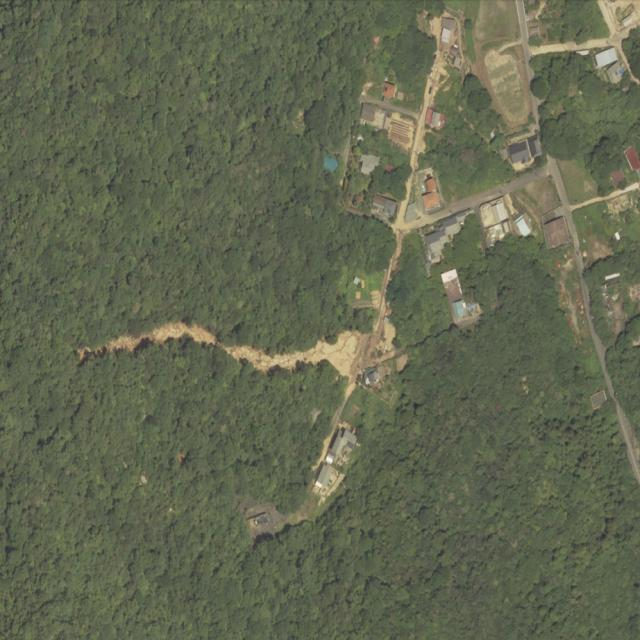landslide: (221, 331, 367, 375), (78, 322, 220, 359)
